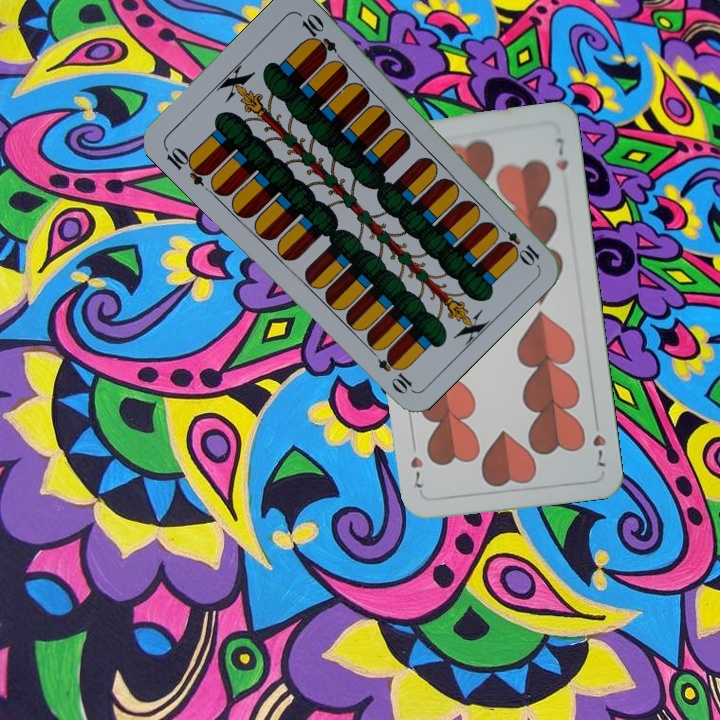E10: (160, 142, 213, 189), (492, 220, 542, 268)
H7: (588, 414, 609, 471)
